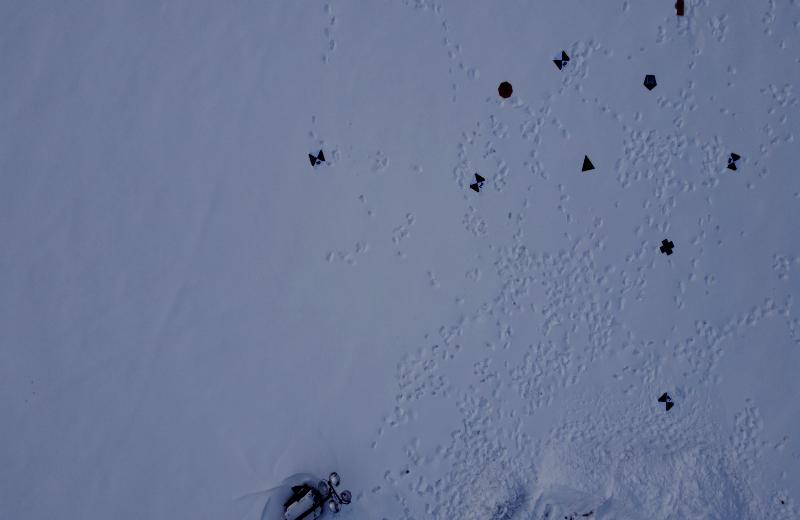Cross: (659, 238, 675, 256)
Octagon: (498, 81, 513, 99)
Pentagon: (643, 74, 658, 91)
Rectangle: (676, 0, 684, 16)
Triangle: (580, 155, 596, 172)
